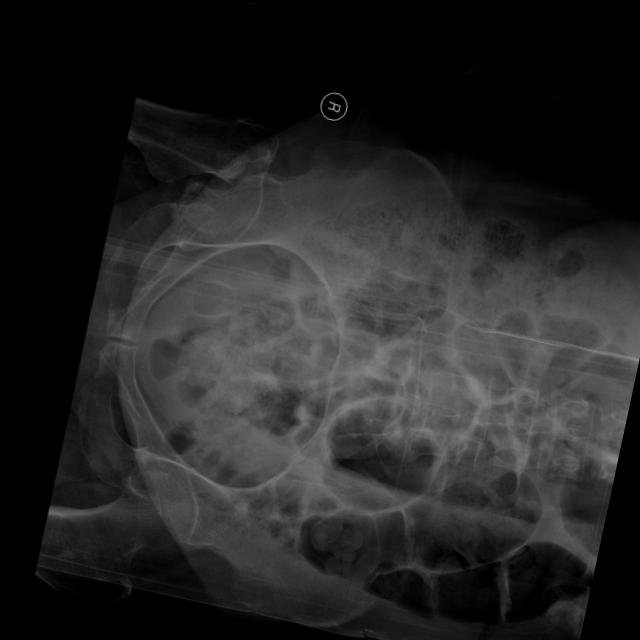normal-left: (34, 470, 189, 602)
right-neck: (127, 97, 278, 188), (179, 173, 255, 235)
